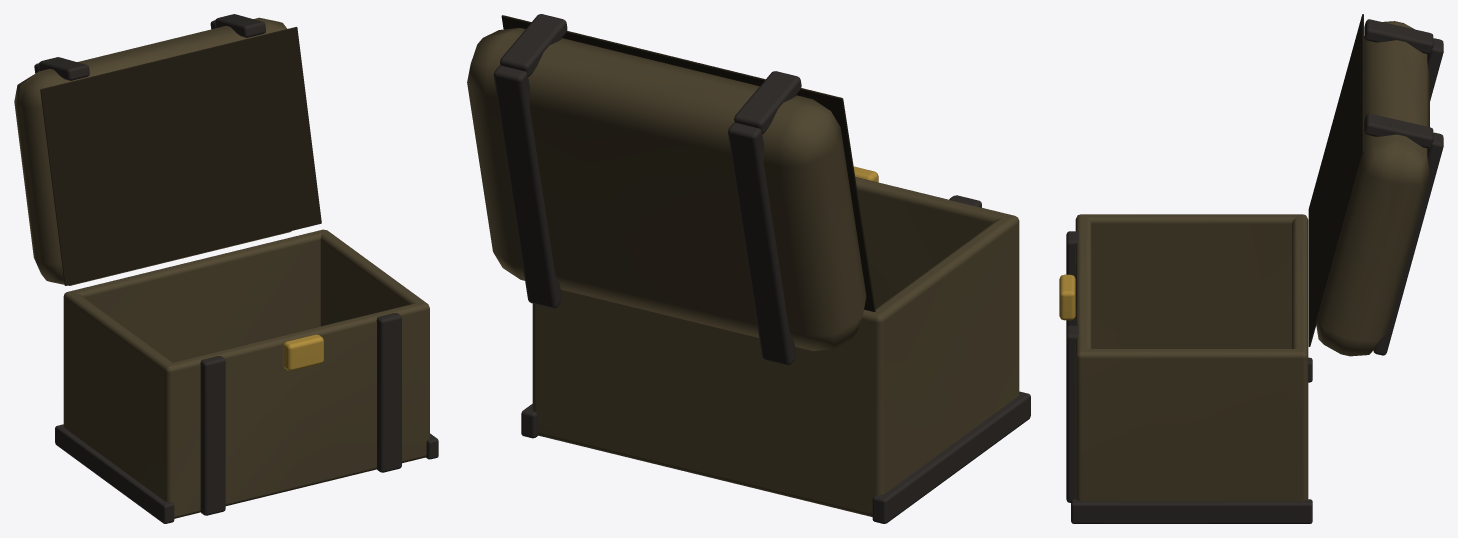
The model's file is furn_old_trunk_open.glb.
3 renders of one model, left to right at view 1: azimuth 30°, elevation 25°; view 2: azimuth 150°, elevation 25°; view 3: azimuth 270°, elevation 25°, orthographic. The views are drawn at different scales.
Parts seen in each view (by area): view 1: furn_old_trunk_open_main; view 2: furn_old_trunk_open_main; view 3: furn_old_trunk_open_main.
Part boxes in pixels (<box>): furn_old_trunk_open_main: <box>14,14,438,523</box>; furn_old_trunk_open_main: <box>467,14,1030,523</box>; furn_old_trunk_open_main: <box>1059,14,1443,523</box>.
Size of the model in its own units: 0.75 by 0.9026 by 0.8262.
